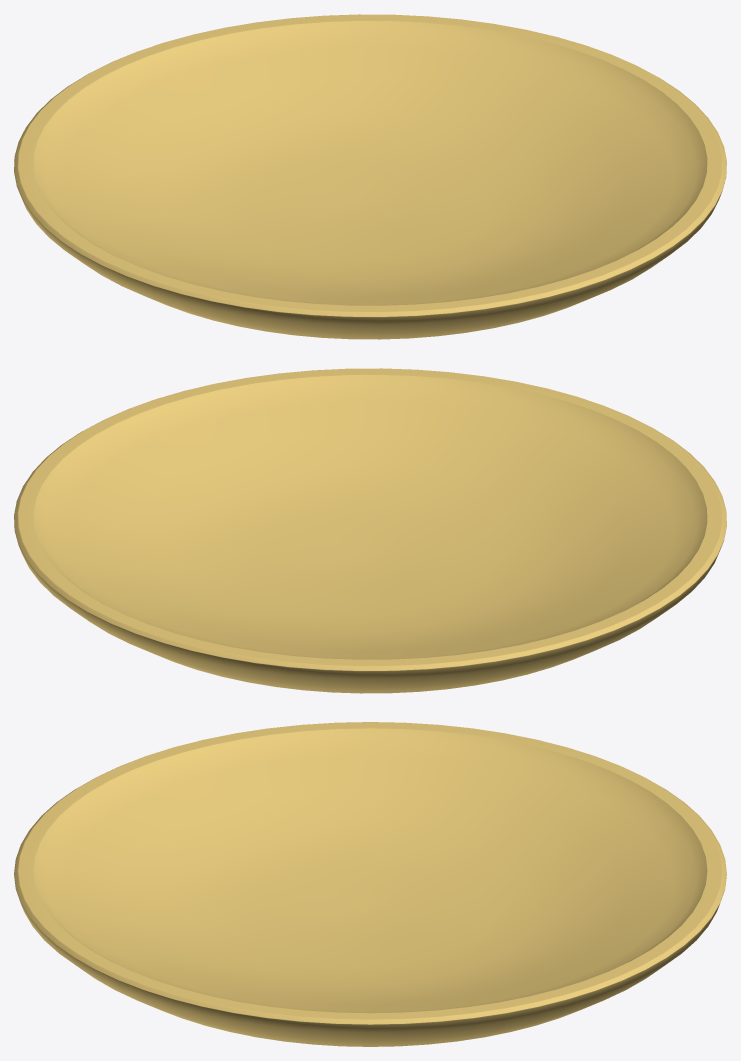
The model's file is plate_V2.fbx.
3 views of the same model, one above another, from view 1: azimuth 30°, elevation 25°; view 2: azimuth 150°, elevation 25°; view 3: azimuth 270°, elevation 25° (orthographic).
Visible parts, largest first — view 1: plate_V3_GEO_01; view 2: plate_V3_GEO_01; view 3: plate_V3_GEO_01.
Part boxes in pixels (<box>): plate_V3_GEO_01: <box>14,14,726,339</box>; plate_V3_GEO_01: <box>14,368,726,693</box>; plate_V3_GEO_01: <box>14,722,726,1046</box>.
Size of the model in its own units: 24.58 by 3.21 by 24.58.
